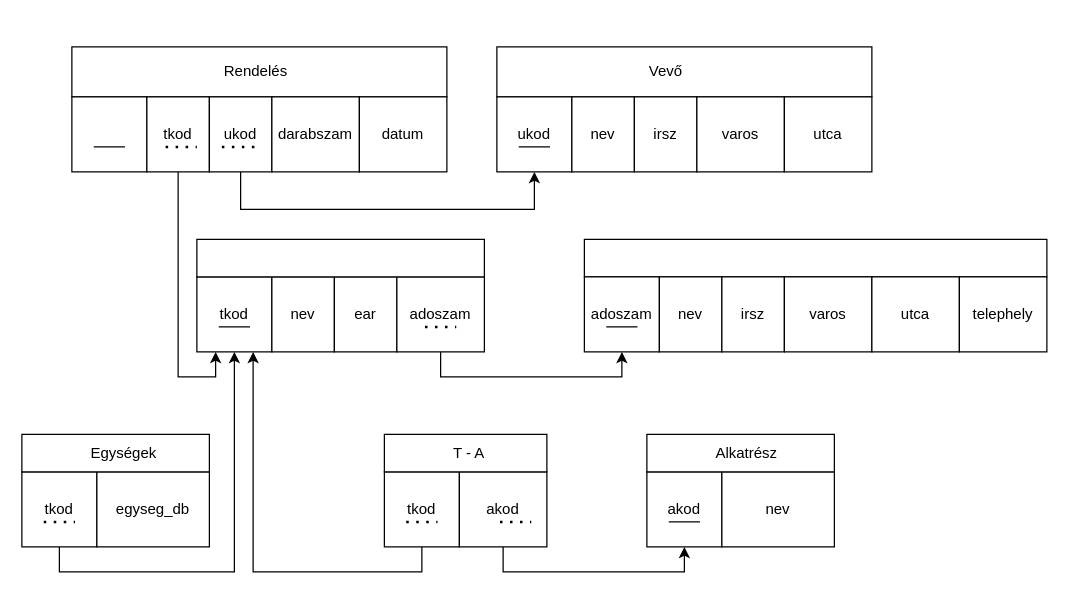
Some shapes in this 1069 by 604 pixel diagram are drawn without their labels. Here are the shapes that lost their labels. From the top down, the centre of each, then its label:
At (x=109, y=134): "rkod".
At (x=340, y=257): "Termék".
At (x=815, y=257): "Gyártó".
